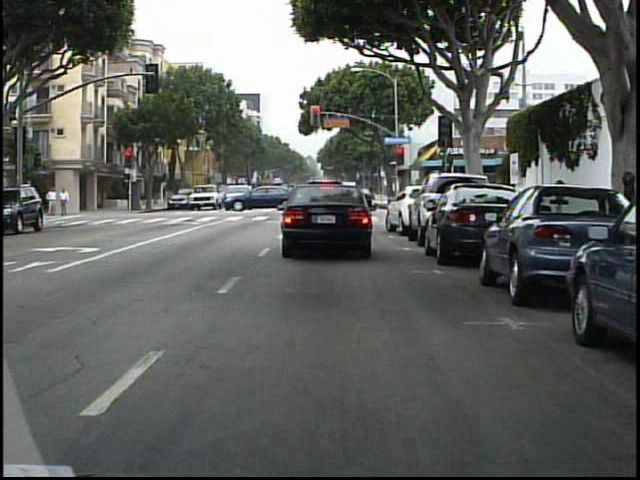person: (59, 187, 74, 219), (41, 187, 54, 218), (47, 186, 58, 217)
